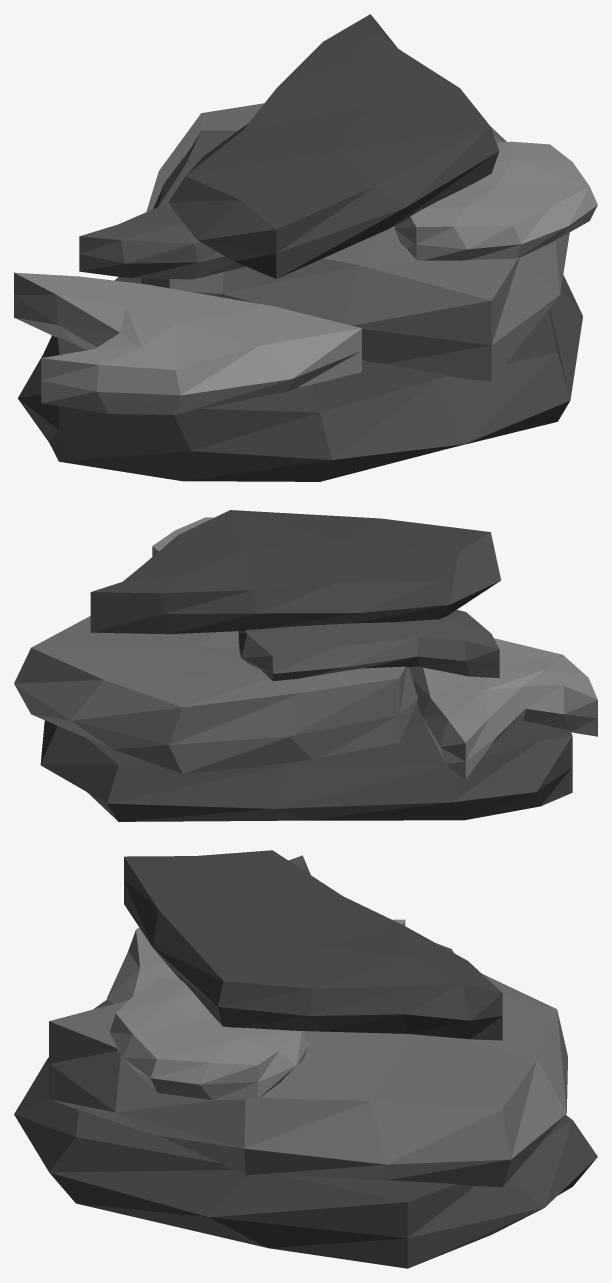
Rendered from stoun_5.fbx.
The picture shows the model from 3 angles, top to bottom: view 1: azimuth 30°, elevation 25°; view 2: azimuth 150°, elevation 25°; view 3: azimuth 270°, elevation 25°; orthographic projection. The views are drawn at different scales.
Parts seen in each view (by area): view 1: Object.005; view 2: Object.005; view 3: Object.005.
Part boxes in pixels (bbox=[...]): Object.005: bbox=[14, 14, 597, 481]; Object.005: bbox=[14, 510, 597, 821]; Object.005: bbox=[14, 850, 597, 1268].
Bounding box in the file's own units: 763 × 307 × 695.
